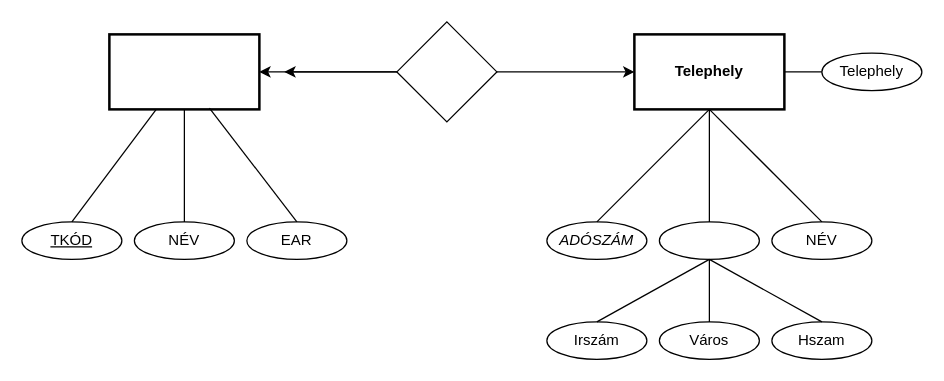
Image size: 944x381. Some labels were removed from this diagram. The shapes that lost their labels are listed below. From the top down, each one's centre as x and y in pixels, then its label:
At pixel 184 71: "Termék".
At pixel 446 71: "T-GY".
At pixel 708 240: "Postacím".
